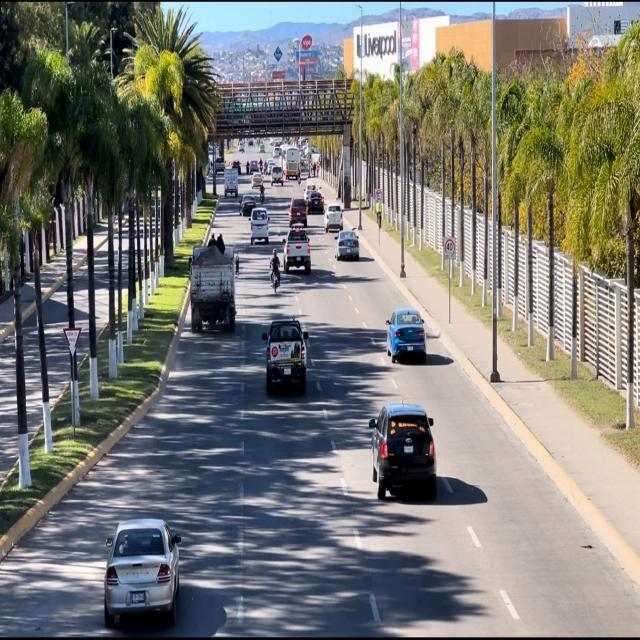Auto: (358, 386, 450, 507), (96, 502, 183, 620), (258, 301, 315, 394), (380, 303, 432, 364), (281, 232, 311, 275), (335, 225, 365, 266), (250, 208, 272, 245), (221, 155, 237, 202), (289, 193, 308, 226), (324, 204, 347, 231), (306, 184, 323, 213), (238, 190, 256, 215), (250, 169, 266, 191), (270, 167, 288, 186)
Autobus: (280, 142, 301, 184)
